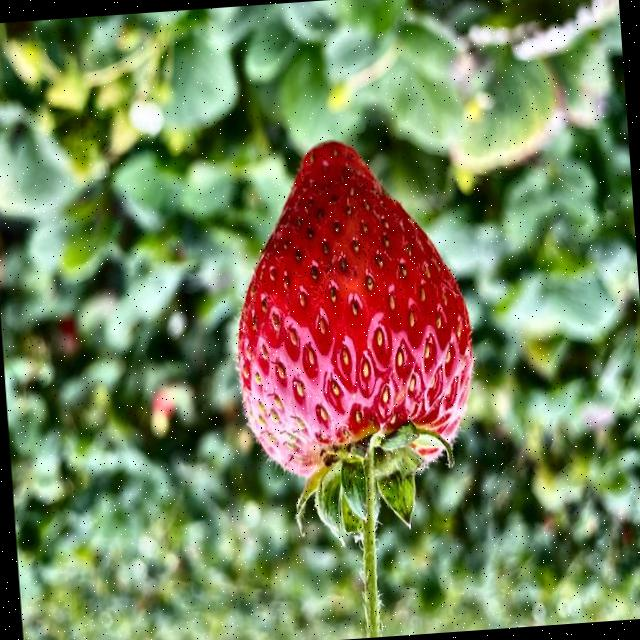strawberry: (237, 141, 472, 637)
